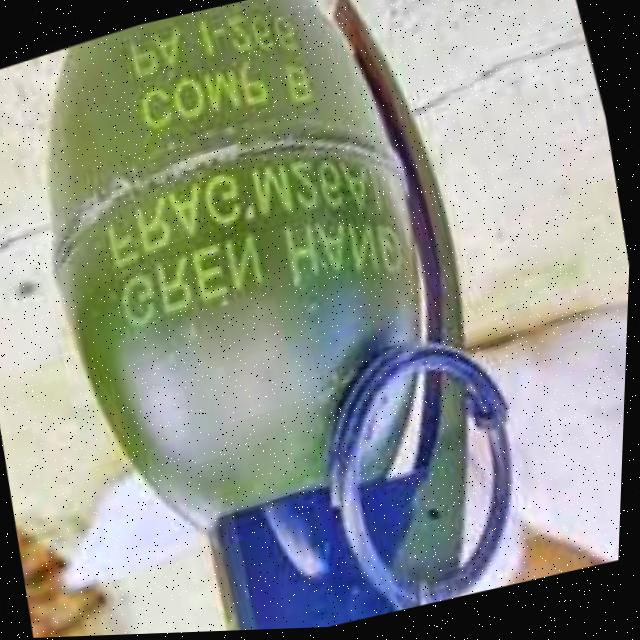grenade: (0, 0, 565, 640)
